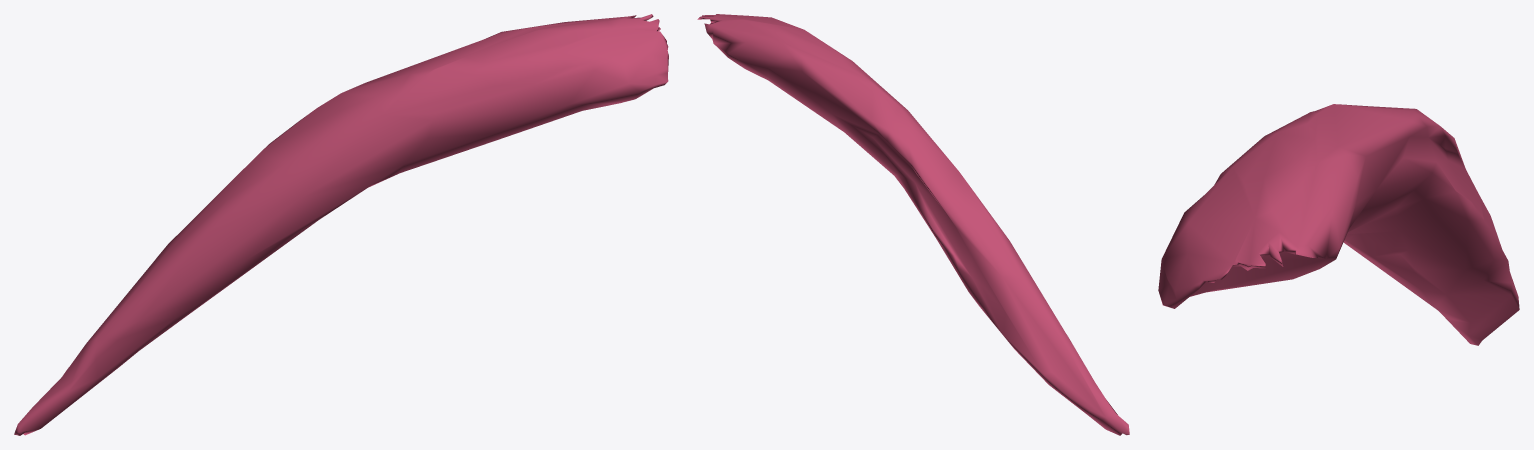
3 renders of one model, left to right at view 1: azimuth 30°, elevation 25°; view 2: azimuth 150°, elevation 25°; view 3: azimuth 270°, elevation 25°, orthographic. The views are drawn at different scales.
Parts seen in each view (by area): view 1: 右侧上孖肌; view 2: 右侧上孖肌; view 3: 右侧上孖肌.
Part boxes in pixels (x1,y1,x2,y2): 右侧上孖肌: (14, 14, 668, 435); 右侧上孖肌: (697, 14, 1129, 435); 右侧上孖肌: (1158, 104, 1519, 345).
Size of the model in its own units: 0.123 by 0.0674 by 0.04.
